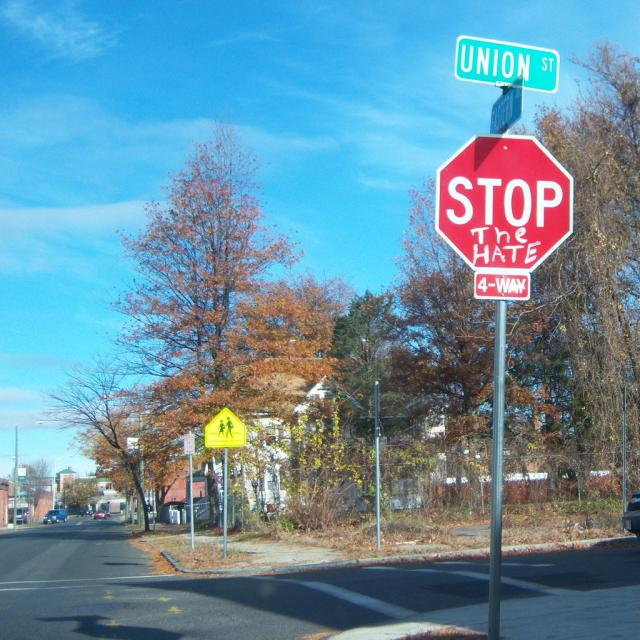Stop-sign: (434, 132, 575, 272)
